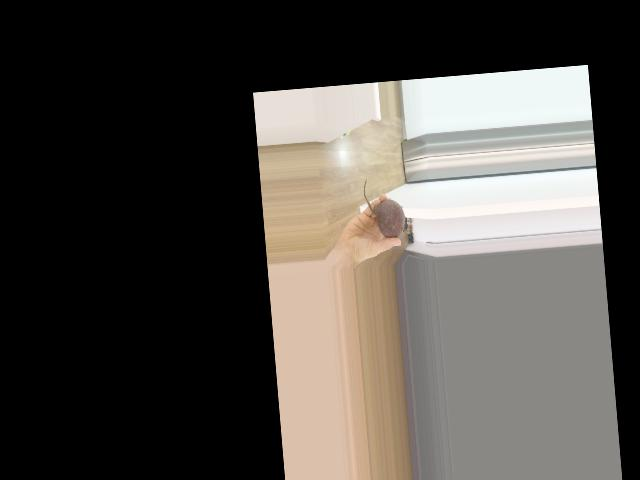beet: (362, 176, 408, 239)
